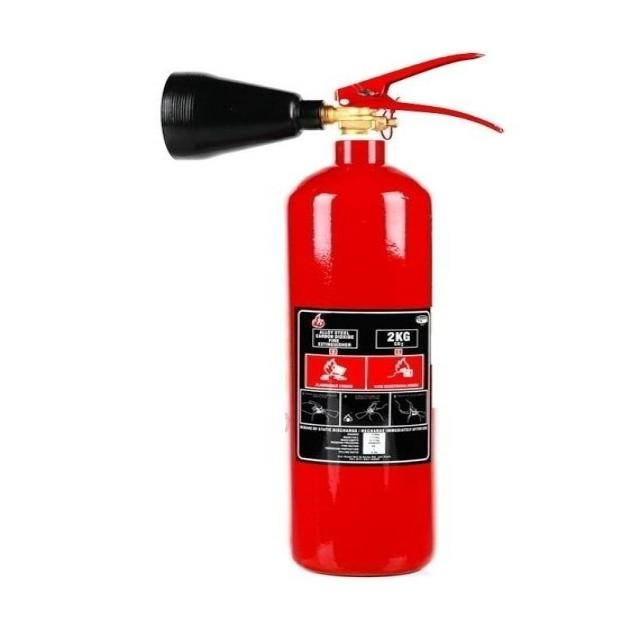fire_extinguisher: (148, 47, 510, 581)
